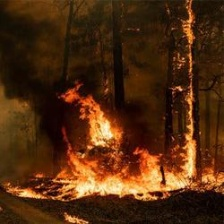fire: (4, 82, 224, 200), (177, 3, 196, 82)
